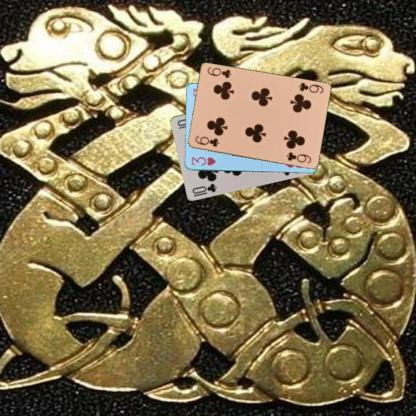10c: (189, 180, 218, 196)
3h: (189, 154, 217, 166)
6c: (192, 133, 221, 148), (296, 80, 325, 94)
